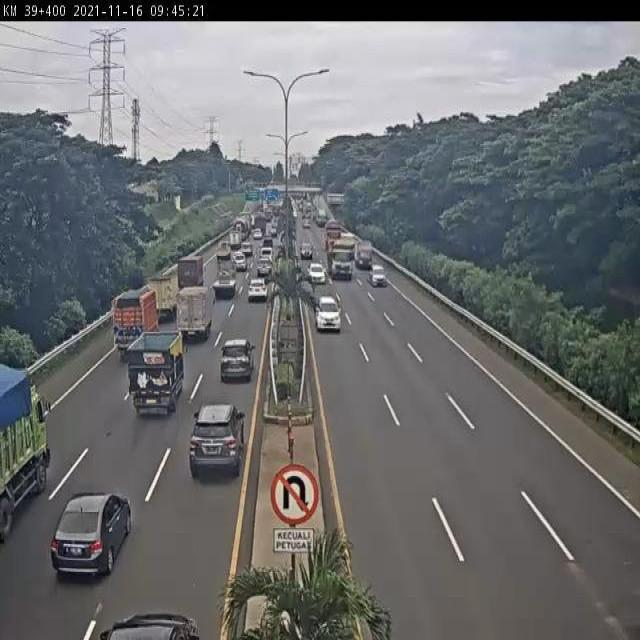car: (45, 491, 132, 581), (189, 400, 246, 476), (218, 338, 254, 386), (315, 293, 342, 331), (245, 281, 266, 304), (369, 265, 386, 288), (231, 253, 248, 275), (309, 264, 327, 284), (254, 265, 269, 284)
small truck: (178, 282, 210, 342), (146, 272, 179, 317), (214, 240, 231, 264)
truck-l-: (327, 236, 356, 281)
truck-m-: (128, 333, 184, 419), (114, 290, 158, 354), (174, 255, 202, 288), (213, 262, 238, 298)
